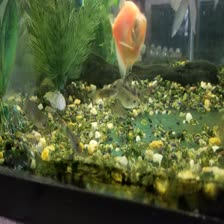Guppy: (16, 89, 51, 133), (99, 83, 145, 107), (61, 123, 90, 159)
Plano: (99, 0, 150, 78)
